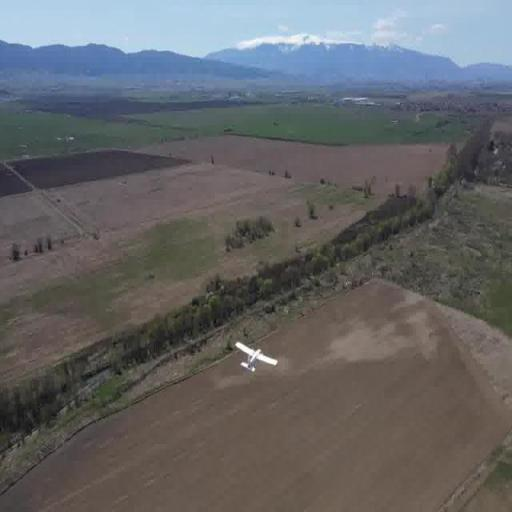uav: (232, 338, 280, 382)
